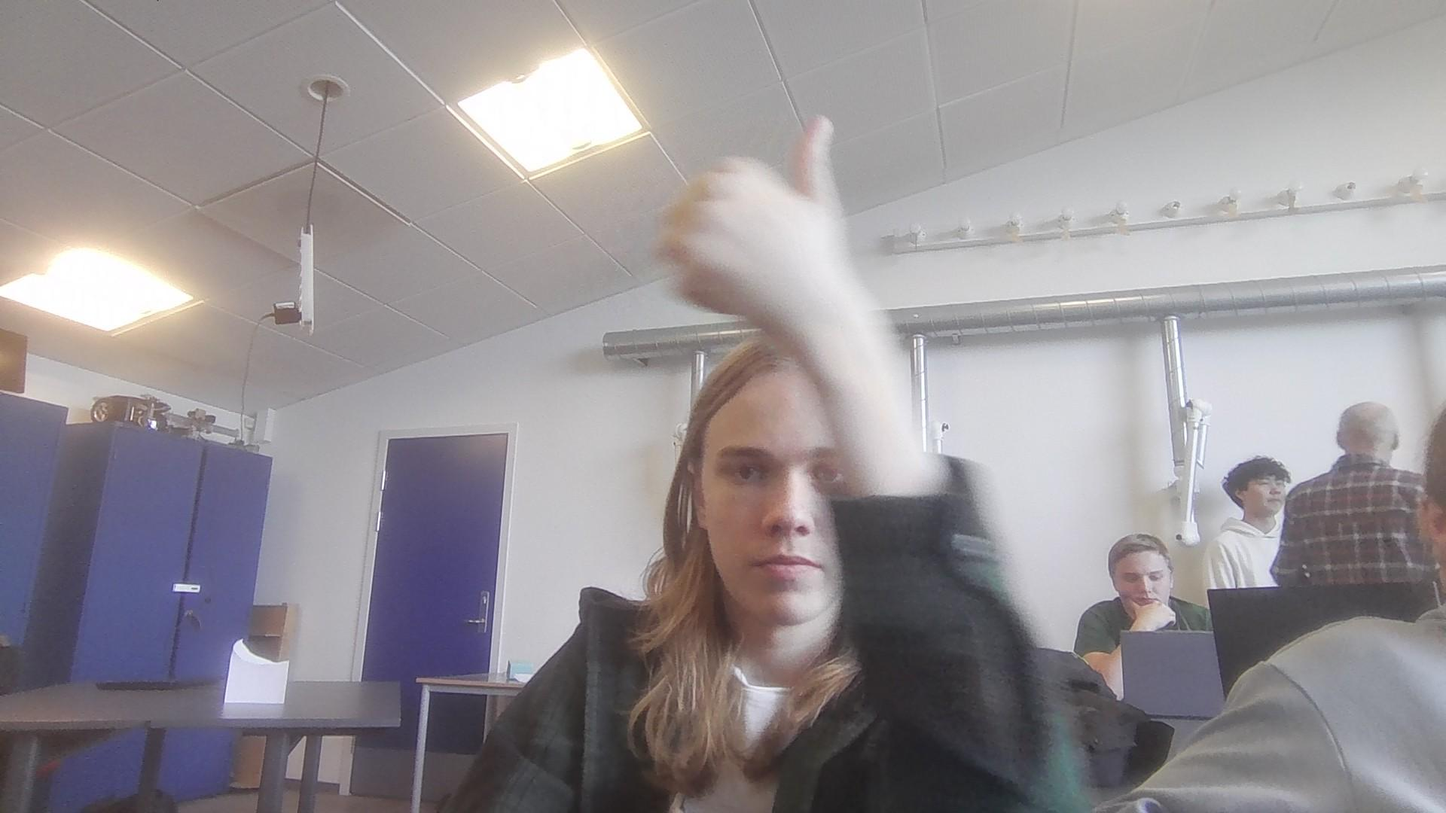thumbs up: (665, 97, 861, 346)
